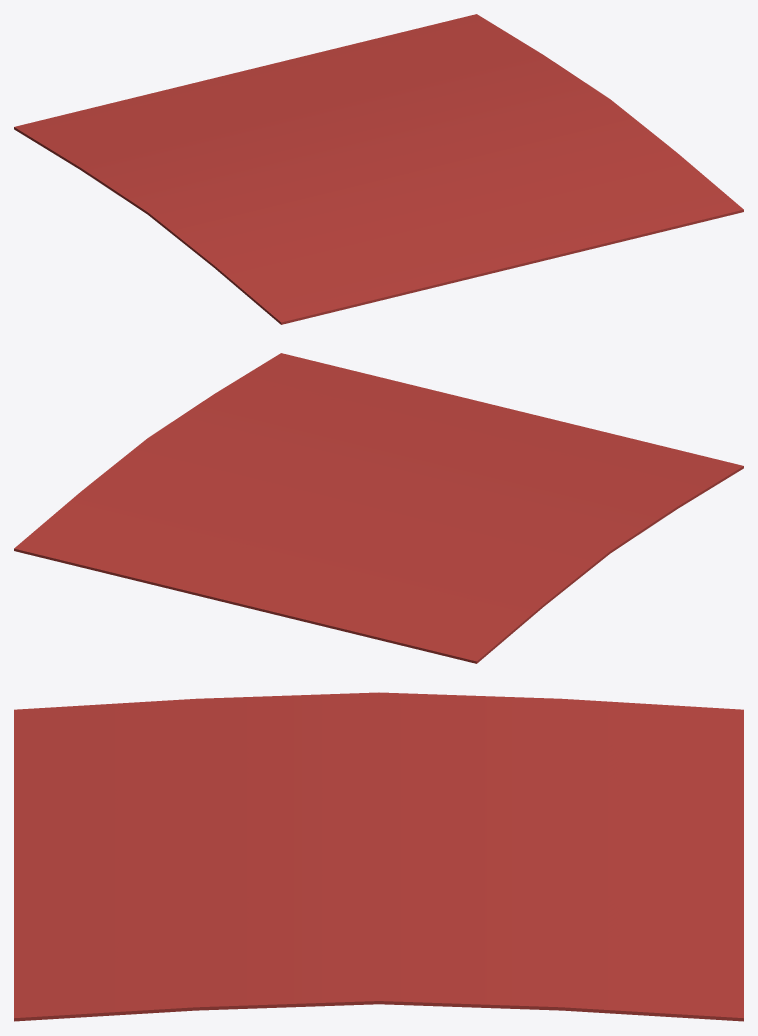
File: plastic_lod2.glb
The picture shows the model from 3 angles, top to bottom: view 1: azimuth 30°, elevation 25°; view 2: azimuth 150°, elevation 25°; view 3: azimuth 270°, elevation 25°; orthographic projection. The views are drawn at different scales.
Parts seen in each view (by area): view 1: plastic_lod2; view 2: plastic_lod2; view 3: plastic_lod2.
Part boxes in pixels (x1,y1,x2,y2): plastic_lod2: (14, 14, 743, 324); plastic_lod2: (14, 353, 743, 663); plastic_lod2: (14, 692, 743, 1021).
Size of the model in its own units: 1 by 0.031 by 1.
